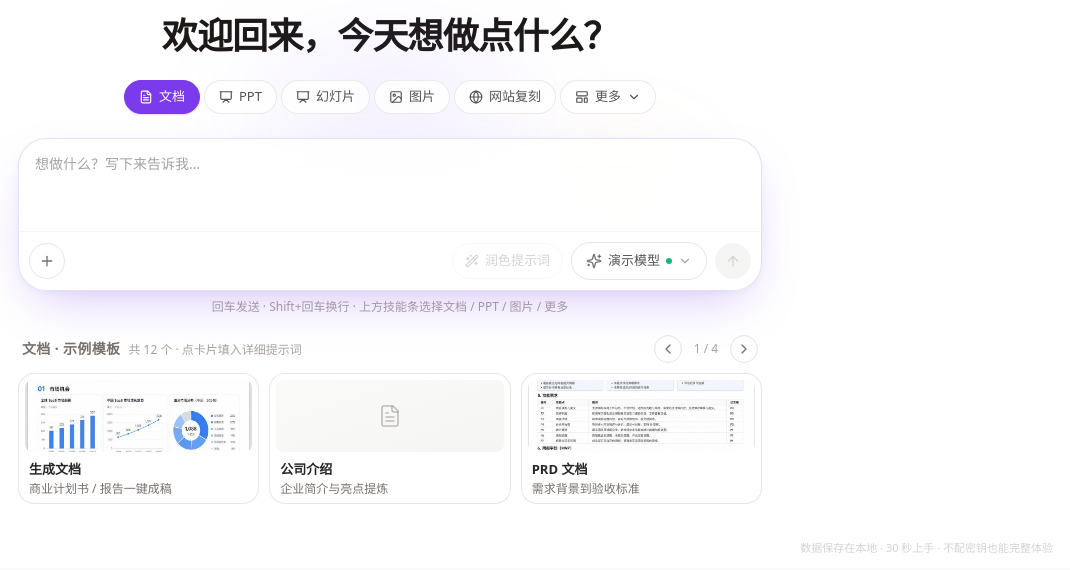
ChatPanel 提交 › 输入内容后发送按钮启用
The image size is (1070, 570).
Type "你好" into the text box at (390, 184), box left=19, top=138, right=761, bottom=230
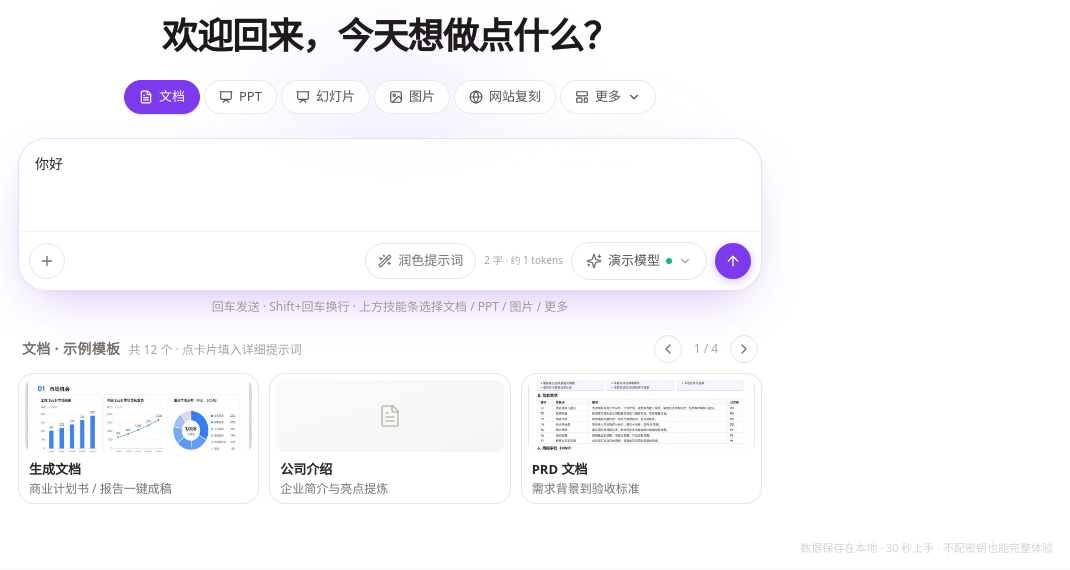
Expected: the button titled "发送（回车）" is enabled, left=715, top=242, right=751, bottom=278
